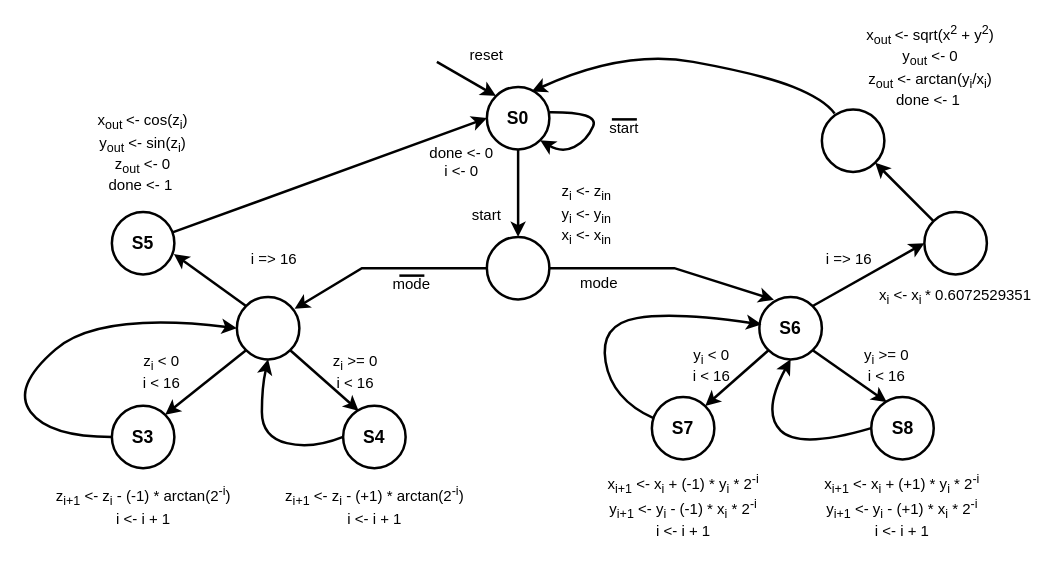
Some shapes in this 1059 by 583 pixel diagram are drawn without their labels. Each missing label, with the centre of its shape:
"S1" belongs at point 517,267.
"S10" belongs at point 852,140.
"S2" belongs at point 267,327.
"S9" belongs at point 955,242.
